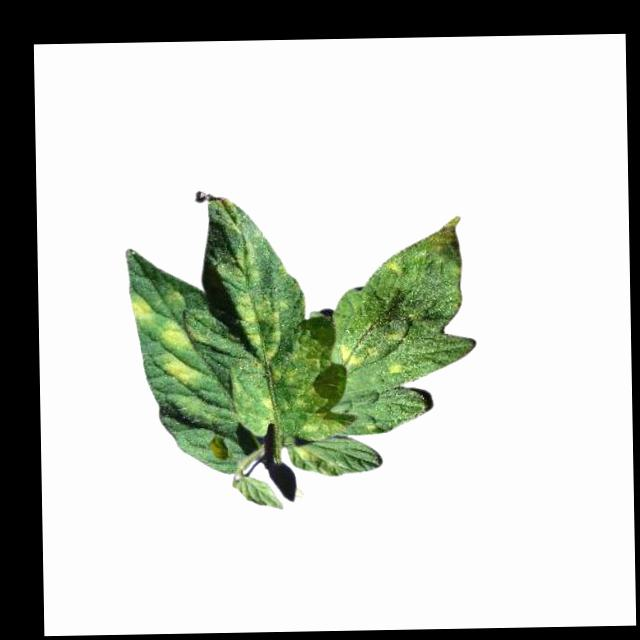Leaf_Mold: (272, 325, 351, 439), (235, 286, 293, 361), (162, 314, 210, 388), (219, 234, 268, 287), (420, 213, 464, 266), (340, 339, 380, 370), (127, 291, 151, 323), (387, 252, 405, 277), (385, 355, 406, 376)
